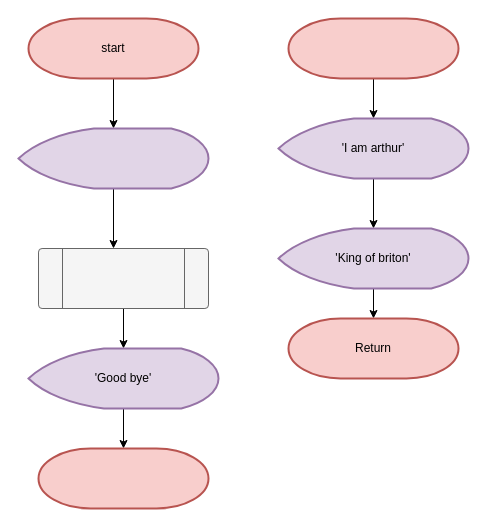
Image size: 486x526. Some labels were removed from this diagram. The centre of each missing label's shape, as x and y in pixels:
'I have a message for you': [113,158]
message(): [373,48]
stop: [123,478]
